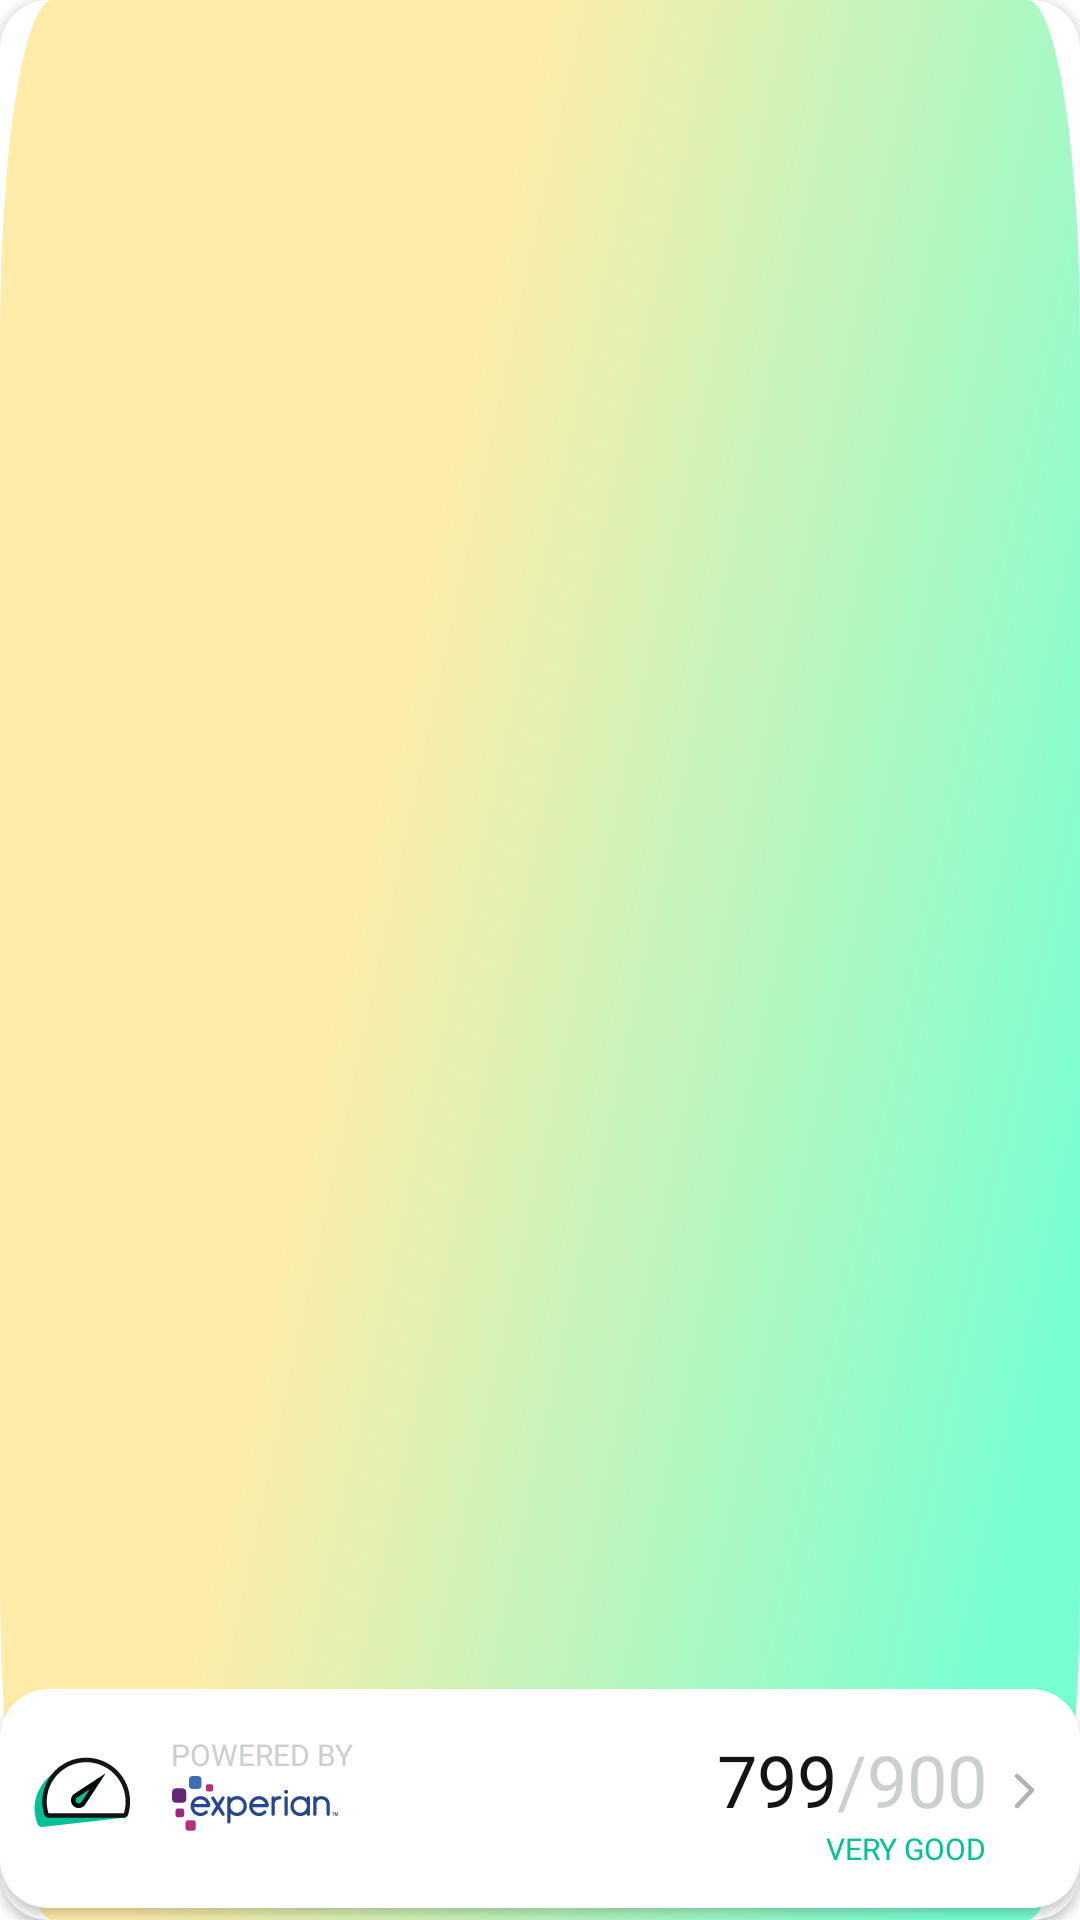

Named icons in this screenshot (1080*1920) and their bounding boxes, (x1, y1, x2, y2):
right chevron: (1015, 1774, 1034, 1808)
